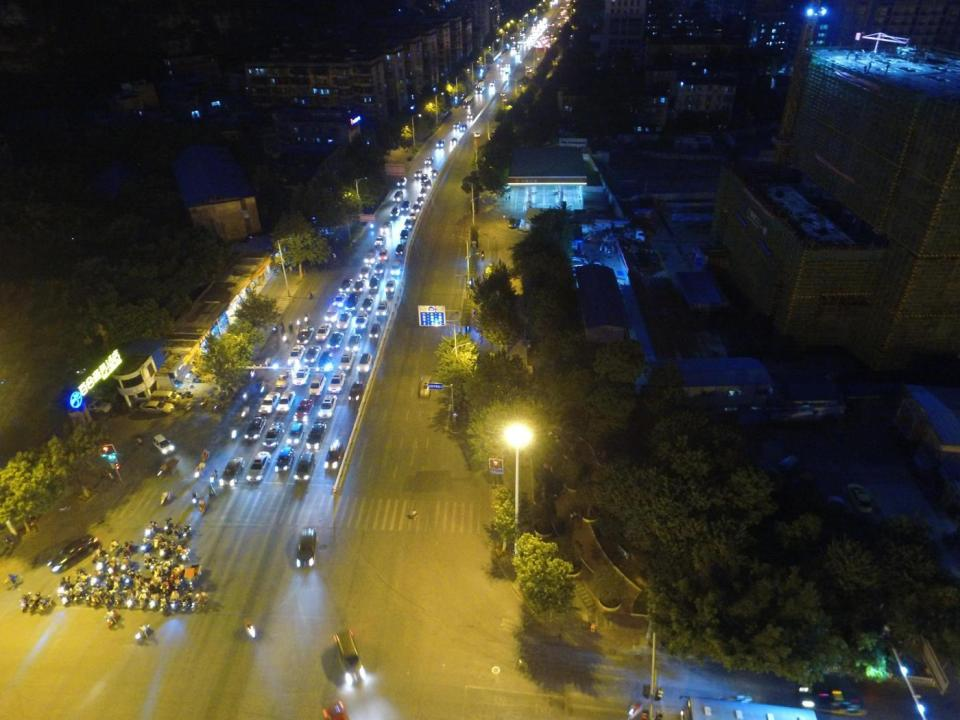bus: (675, 694, 817, 720), (463, 96, 474, 108), (475, 82, 486, 93)
car: (798, 686, 868, 716), (48, 534, 100, 574), (334, 628, 367, 687), (296, 527, 318, 570), (218, 457, 245, 487), (246, 451, 272, 482), (846, 481, 872, 512), (294, 452, 316, 483), (324, 439, 344, 472), (263, 422, 285, 450), (274, 446, 295, 474), (306, 421, 326, 449), (244, 416, 265, 442), (139, 400, 175, 415), (322, 700, 350, 719), (294, 397, 314, 422), (287, 421, 305, 448), (152, 433, 174, 455), (259, 391, 279, 414), (318, 394, 337, 418), (277, 391, 296, 413), (308, 372, 326, 395), (329, 370, 346, 393), (287, 345, 306, 365), (292, 366, 311, 385), (338, 350, 355, 371), (348, 381, 364, 403), (356, 352, 372, 374), (87, 400, 113, 413), (317, 351, 333, 372), (326, 332, 344, 350), (314, 323, 331, 341), (335, 311, 352, 329), (304, 344, 320, 363), (353, 310, 368, 330), (297, 327, 313, 345), (276, 368, 290, 388), (418, 375, 430, 398), (346, 334, 362, 351), (333, 292, 346, 308), (353, 278, 366, 294), (346, 295, 358, 312), (338, 278, 352, 292), (360, 297, 374, 311), (370, 323, 381, 340), (368, 275, 379, 292), (364, 248, 376, 263), (377, 300, 388, 316), (326, 306, 337, 322), (390, 260, 401, 276), (384, 280, 396, 293), (359, 264, 370, 278), (570, 256, 588, 264), (374, 261, 385, 274), (374, 235, 385, 248), (379, 221, 392, 232), (400, 200, 411, 212), (396, 176, 407, 187), (379, 247, 388, 260), (508, 216, 517, 229), (390, 207, 400, 217), (392, 191, 403, 200), (403, 219, 414, 228), (395, 244, 403, 255), (400, 229, 408, 239), (411, 204, 421, 212), (414, 197, 424, 205), (423, 179, 431, 189), (424, 157, 433, 165), (436, 140, 445, 148), (409, 210, 417, 219), (420, 174, 428, 183), (414, 170, 423, 178), (458, 124, 468, 131), (420, 187, 426, 198), (430, 168, 438, 176), (467, 112, 474, 119), (450, 137, 458, 143), (453, 121, 460, 127), (505, 62, 511, 68), (490, 81, 496, 86), (474, 133, 480, 137)
truck: (601, 228, 645, 246)
van: (150, 390, 182, 403)
